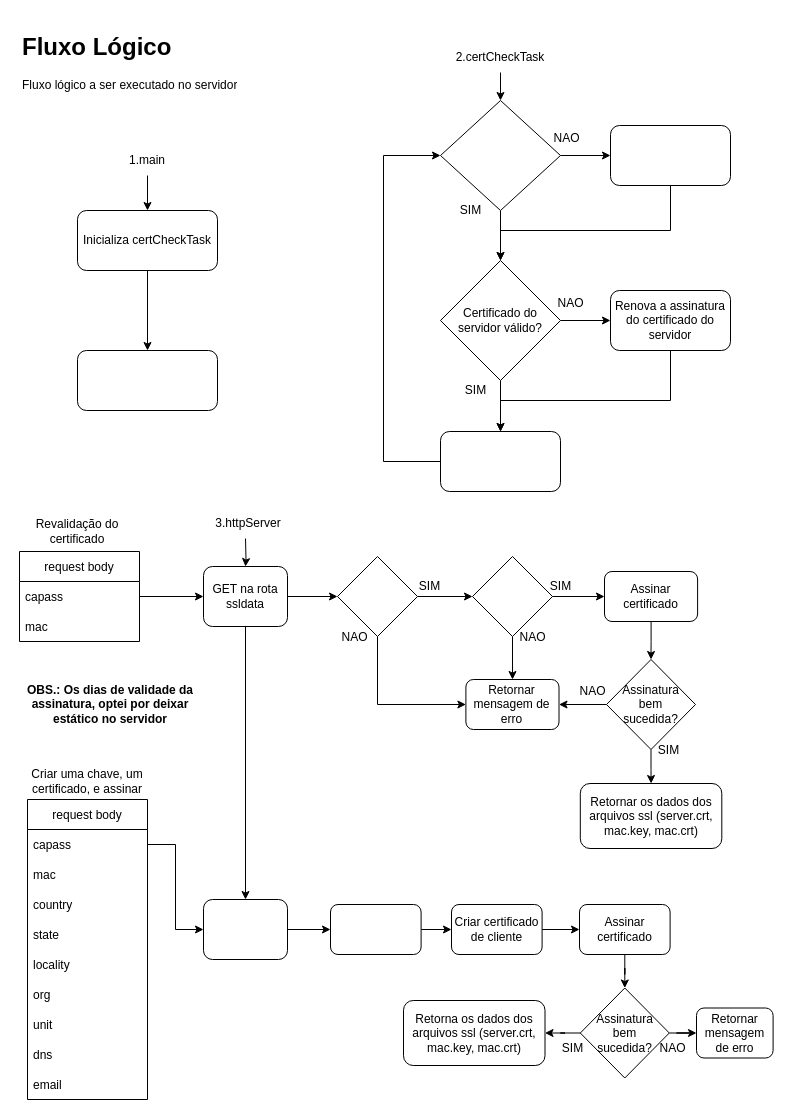
The diagram is 791 pixels wide and 1117 high, and some of its shapes have lost their labels. Each missing label, with the box of its shape:
Aguarda 24h: (440, 430, 560, 492)
CA válida?: (440, 100, 560, 210)
Certificado existe?: (472, 556, 552, 636)
chave de cliente existe?: (336, 556, 418, 636)
Cria um novo certificado para a CA: (610, 124, 730, 186)
Criar chave de cliente: (330, 904, 421, 954)
Inicializa httpServer: (76, 350, 218, 410)
POST na rota ssldata: (202, 898, 288, 960)
